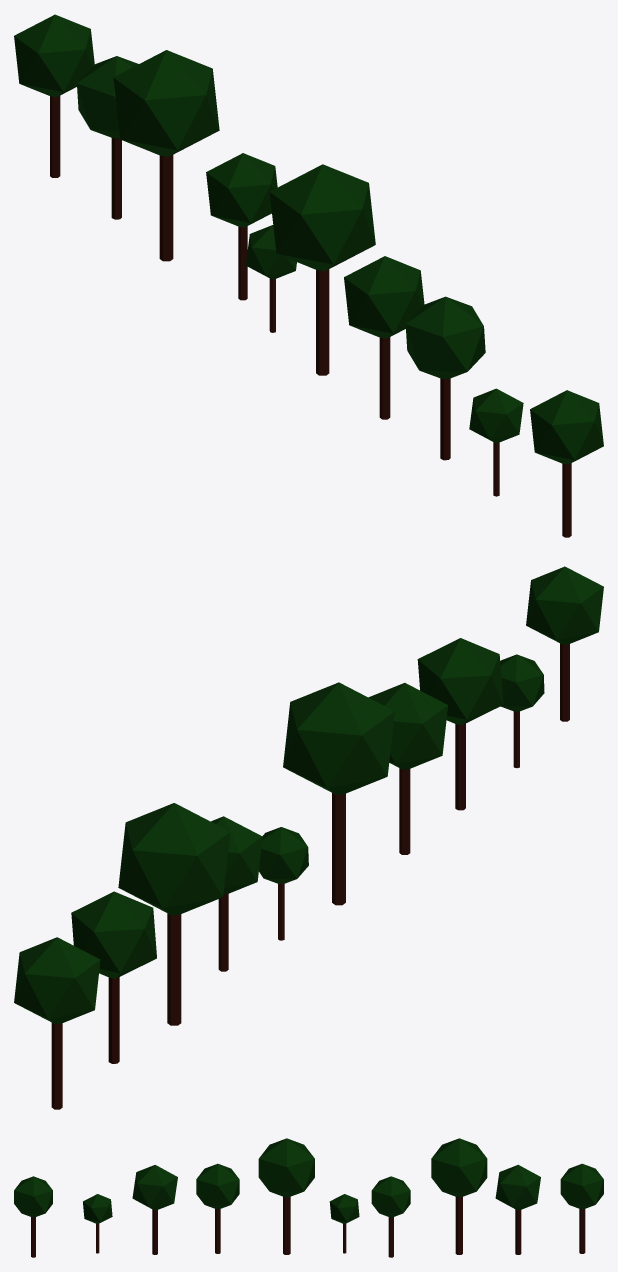
File: forest_vertical.obj
3 renders of one model, top to bottom at view 1: azimuth 30°, elevation 25°; view 2: azimuth 150°, elevation 25°; view 3: azimuth 270°, elevation 25°, orthographic. The views are drawn at different scales.
Parts seen in each view (by area): view 1: Cylinder.009, Cylinder.004, Cylinder.001, Cylinder, Cylinder.005, Cylinder.003, Cylinder.008, Cylinder.006, Cylinder.002, Cylinder.007; view 2: Cylinder.009, Cylinder.004, Cylinder.005, Cylinder.006, Cylinder.001, Cylinder.003, Cylinder, Cylinder.008, Cylinder.007, Cylinder.002; view 3: Cylinder.009, Cylinder.004, Cylinder.006, Cylinder.005, Cylinder.001, Cylinder, Cylinder.008, Cylinder.003, Cylinder.007, Cylinder.002.
Part boxes in pixels (x1=…): Cylinder.009: x1=113, y1=50, x2=219, y2=261; Cylinder.004: x1=269, y1=164, x2=375, y2=375; Cylinder.001: x1=405, y1=296, x2=485, y2=460; Cylinder: x1=344, y1=256, x2=424, y2=419; Cylinder.005: x1=14, y1=14, x2=94, y2=177; Cylinder.003: x1=530, y1=390, x2=603, y2=537; Cylinder.008: x1=206, y1=153, x2=277, y2=300; Cylinder.006: x1=77, y1=56, x2=138, y2=219; Cylinder.002: x1=469, y1=388, x2=523, y2=496; Cylinder.007: x1=245, y1=225, x2=296, y2=332; Cylinder.009: x1=118, y1=803, x2=230, y2=1025; Cylinder.004: x1=283, y1=682, x2=394, y2=905; Cylinder.005: x1=14, y1=937, x2=100, y2=1109; Cylinder.006: x1=71, y1=891, x2=156, y2=1063; Cylinder.001: x1=417, y1=638, x2=503, y2=810; Cylinder.003: x1=526, y1=566, x2=603, y2=721; Cylinder: x1=368, y1=683, x2=447, y2=854; Cylinder.008: x1=211, y1=816, x2=262, y2=971; Cylinder.007: x1=259, y1=827, x2=308, y2=940; Cylinder.002: x1=500, y1=654, x2=544, y2=768; Cylinder.009: x1=431, y1=1138, x2=487, y2=1254; Cylinder.004: x1=258, y1=1138, x2=314, y2=1254; Cylinder.006: x1=495, y1=1164, x2=540, y2=1254; Cylinder.005: x1=560, y1=1163, x2=603, y2=1253; Cylinder.001: x1=132, y1=1165, x2=177, y2=1254; Cylinder: x1=196, y1=1163, x2=239, y2=1253; Cylinder.008: x1=371, y1=1176, x2=410, y2=1257; Cylinder.003: x1=14, y1=1176, x2=52, y2=1257; Cylinder.007: x1=329, y1=1194, x2=359, y2=1253; Cylinder.002: x1=83, y1=1194, x2=112, y2=1253.
Size of the model in its own units: 1.98 by 4.23 by 19.6.
